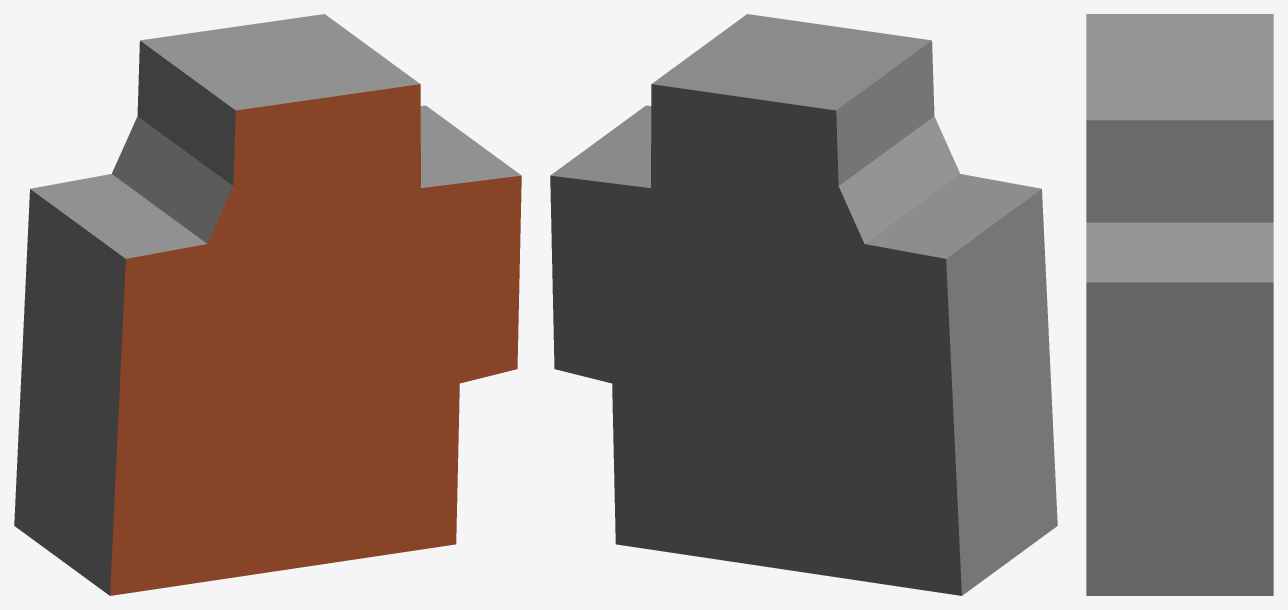
The model's file is construction_2770_assumed_A_Casa_h6m.obj.
3 renders of one model, left to right at view 1: azimuth 30°, elevation 25°; view 2: azimuth 150°, elevation 25°; view 3: azimuth 270°, elevation 25°, orthographic. The views are drawn at different scales.
Visible parts, largest first — view 1: construction_2770_assumed_A_Casa; view 2: construction_2770_assumed_A_Casa; view 3: construction_2770_assumed_A_Casa.
Boxes of the visible parts, x1=… form: construction_2770_assumed_A_Casa: x1=14, y1=14, x2=521, y2=595; construction_2770_assumed_A_Casa: x1=550, y1=14, x2=1057, y2=595; construction_2770_assumed_A_Casa: x1=1086, y1=14, x2=1273, y2=595.
Size of the model in its own units: 14.89 by 16.85 by 6.
